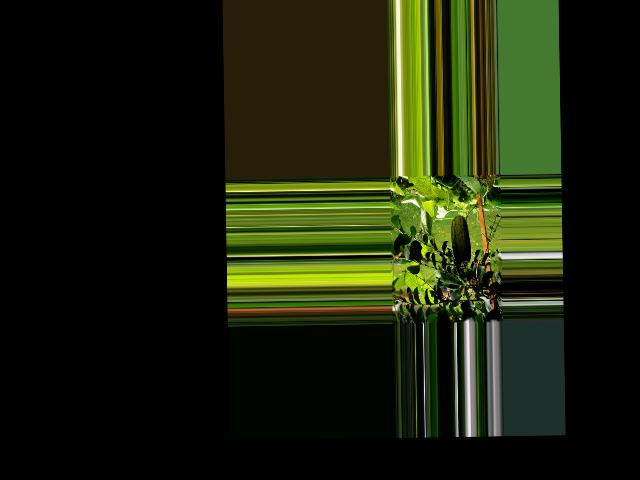cucumber: (451, 215, 472, 268)
